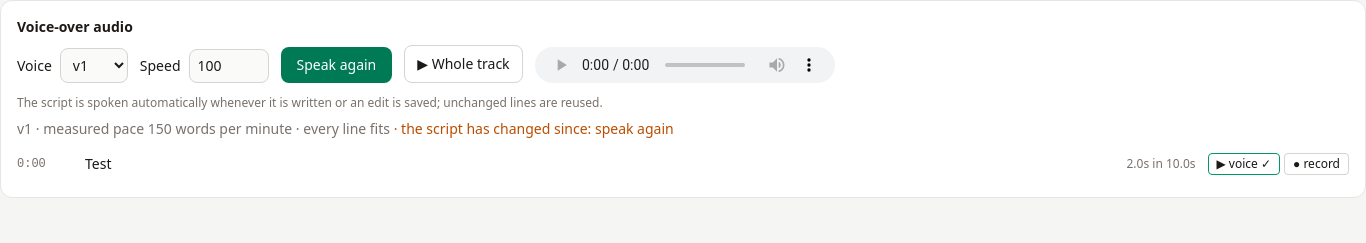
it: VoiceoverPanel › handles microphone permission denied
Step 1. Click the button "● record" → [1316, 164], box x1=1284 y1=153 x2=1349 y2=175
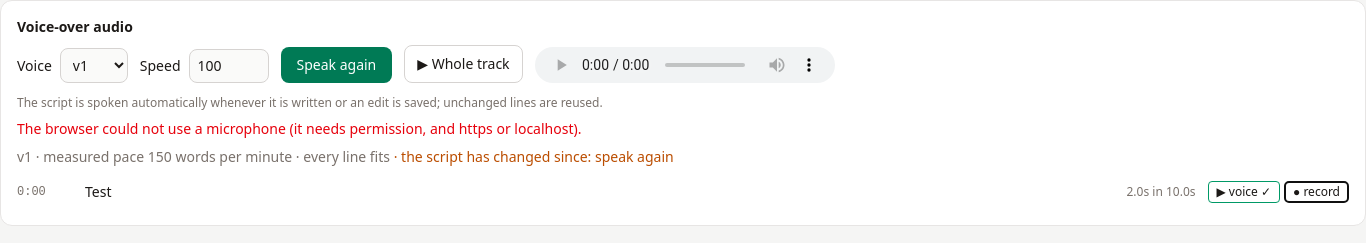
Result: the text "The browser could not use a microphone (it needs permission, and https or localhost)." is shown at x1=17 y1=119 x2=581 y2=138
